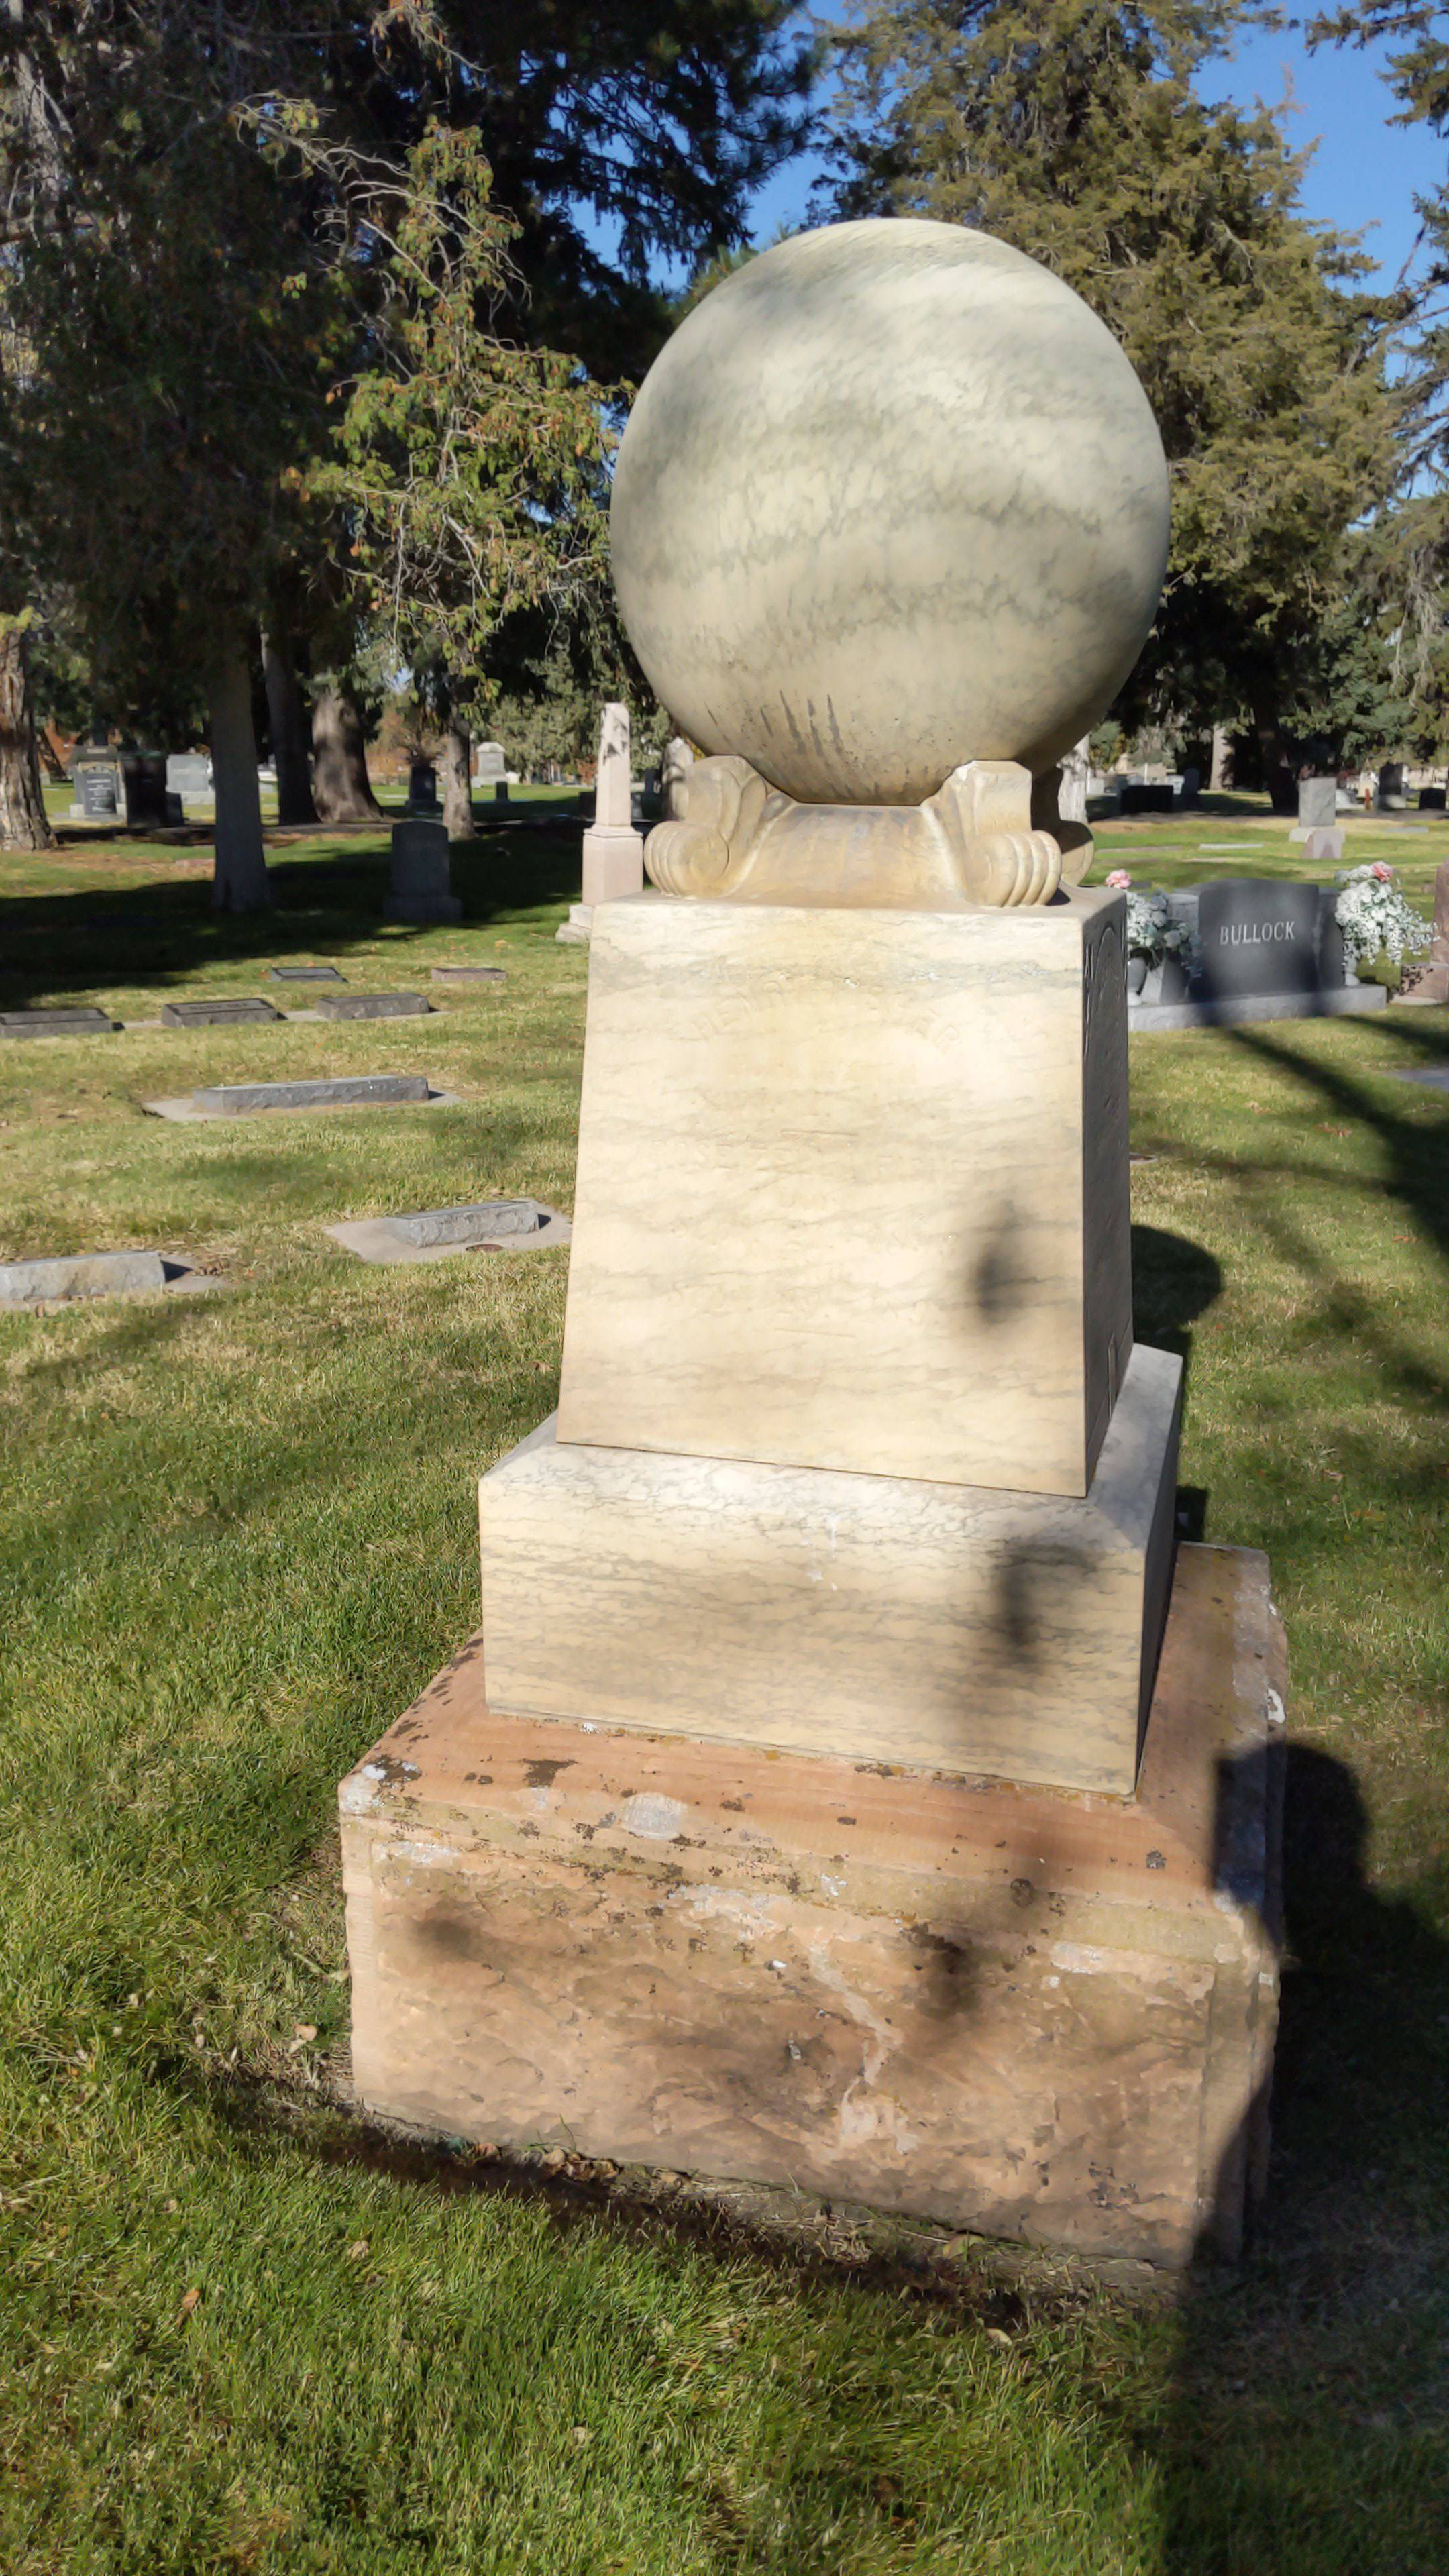obelisk: (474, 216, 1187, 1799)
